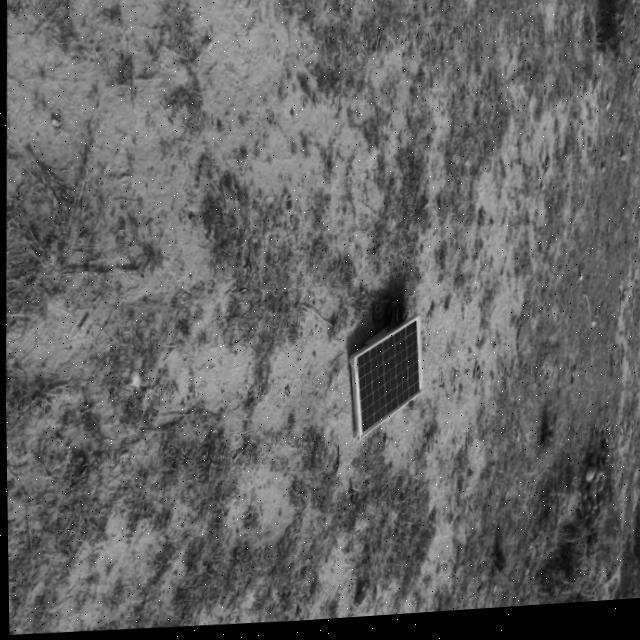Normal Solar Panel: (348, 319, 422, 446)
